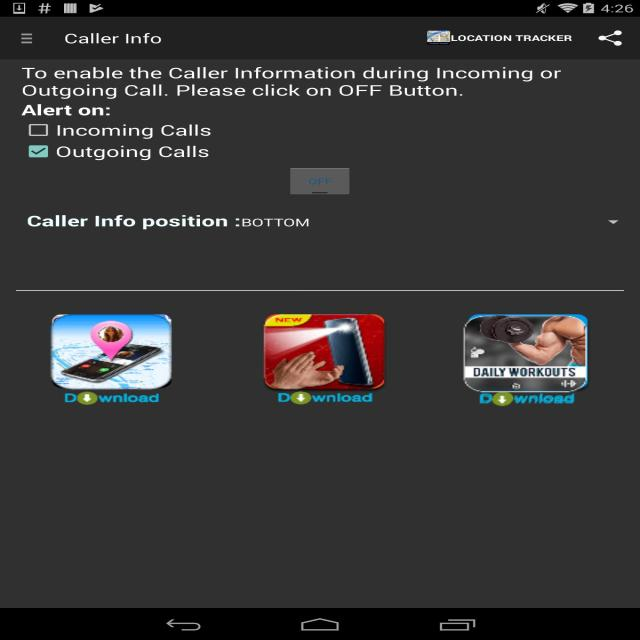button: (456, 307, 595, 416), (261, 309, 392, 410), (45, 311, 184, 406), (421, 27, 576, 51), (12, 26, 43, 52), (598, 26, 630, 51), (600, 210, 628, 234), (24, 143, 52, 160), (26, 122, 52, 138)
heading: (60, 29, 166, 50), (20, 103, 122, 121)
image: (460, 312, 590, 392), (264, 312, 385, 390), (52, 311, 175, 387)
label: (56, 143, 218, 164), (55, 121, 214, 140)
text: (17, 60, 570, 102), (29, 212, 314, 234)
